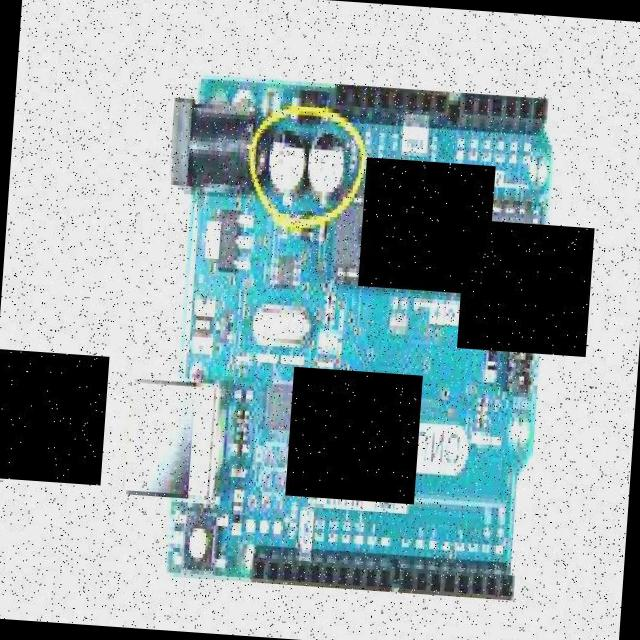arduino: (160, 78, 560, 602)
